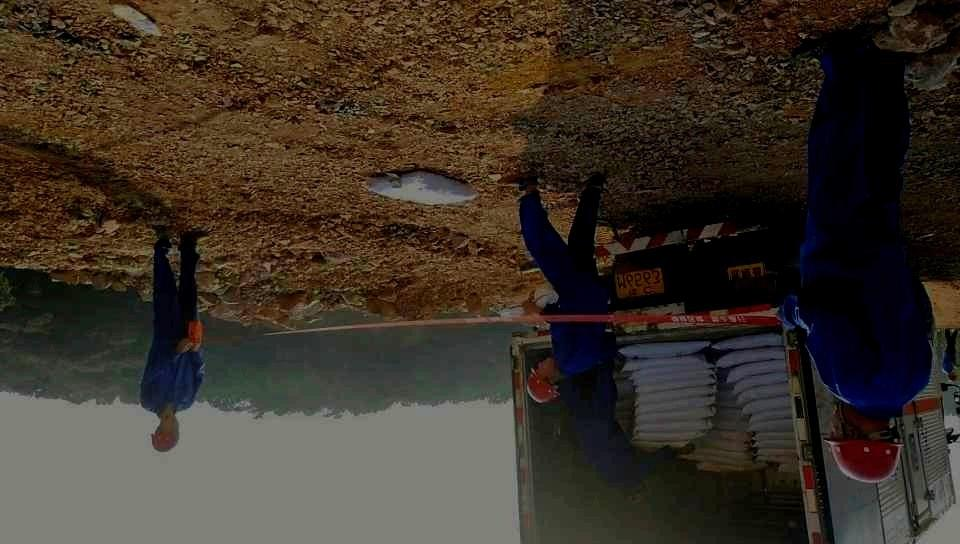helmet: (823, 398, 905, 483), (525, 357, 562, 404), (149, 414, 180, 453)
